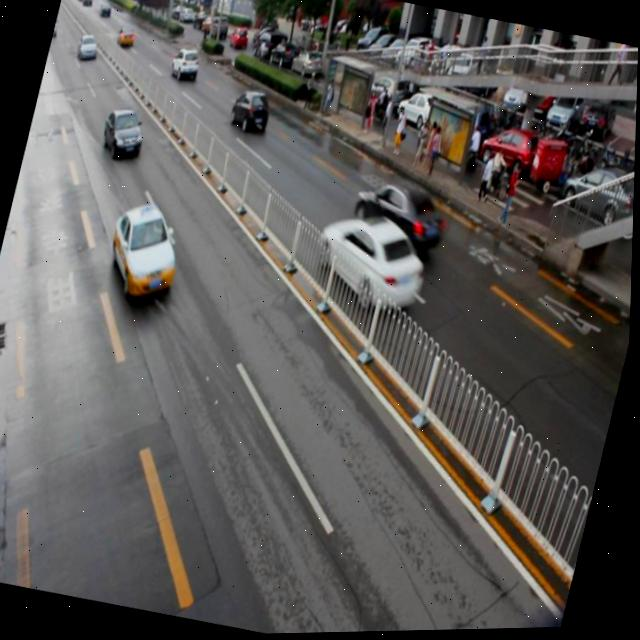car: (305, 206, 435, 320), (101, 195, 191, 304), (346, 174, 454, 261), (98, 103, 151, 166), (228, 86, 275, 137), (502, 596, 570, 631), (168, 44, 203, 87)
